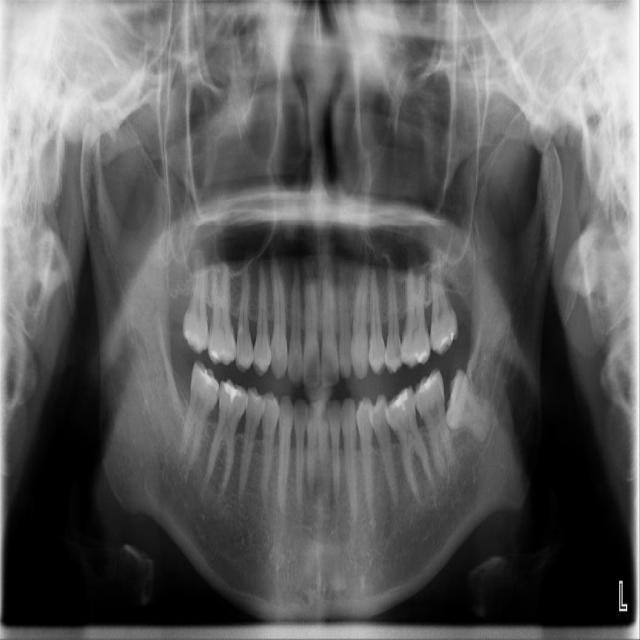52: (177, 356, 234, 417), (376, 384, 430, 437), (208, 375, 255, 423), (410, 367, 449, 422), (428, 299, 461, 355), (180, 302, 212, 356), (400, 315, 431, 367), (207, 319, 237, 365)
73: (539, 542, 547, 552)
BioHorizons Implant: (429, 253, 459, 355)
Biomet 3i Implant: (443, 367, 497, 441)
Blue Sky Bio Implant: (410, 366, 456, 480)
Caries: (178, 250, 211, 355)
Implant: (177, 360, 225, 471)
